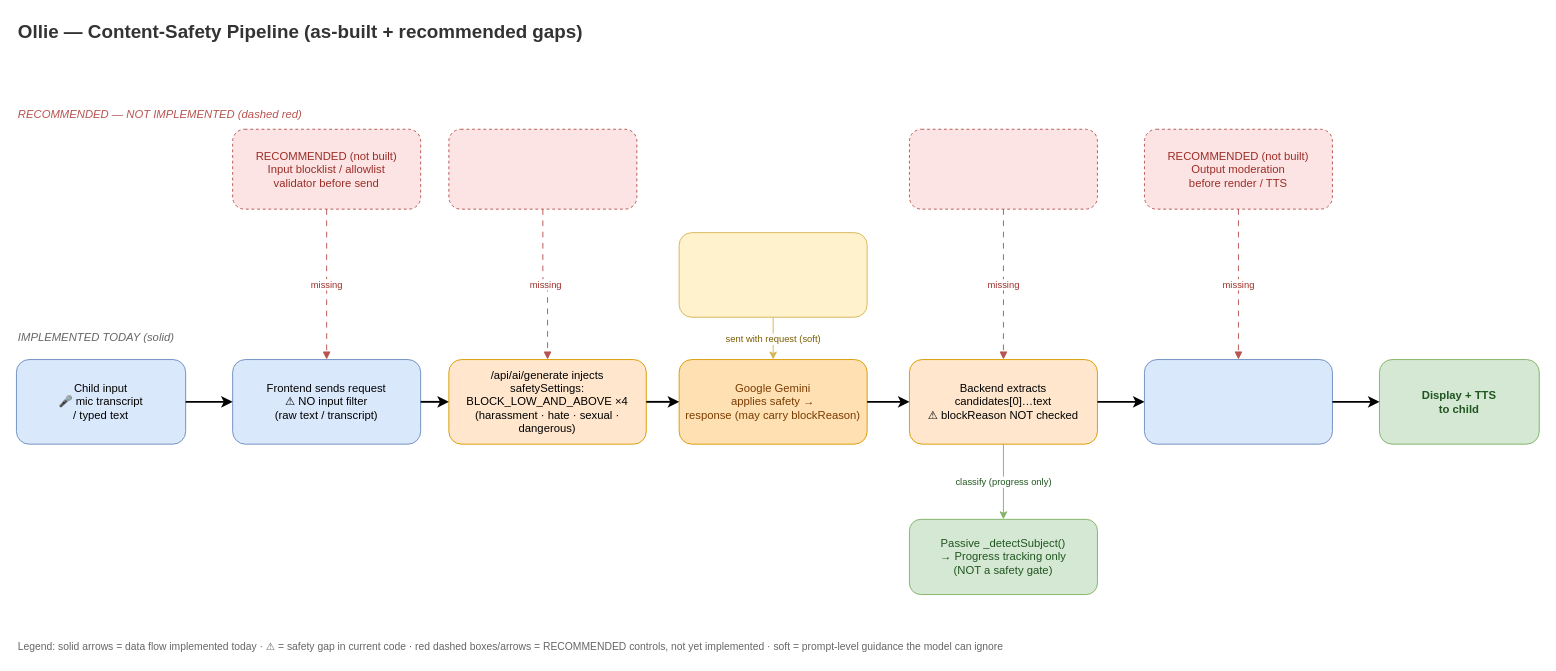
This 1556x671 diagram has some shape labels left out. The box of each missing label's shape, as (x1, y1, x2, y2) in pixels:
Frontend render esc() / fmt() HTML-escape + markdown only ⚠ no output moderation: (1144, 359, 1332, 444)
RECOMMENDED (not built) blockReason handler → safe fallback message: (909, 128, 1097, 209)
RECOMMENDED (not built) Hard STEAM-topic classifier / gate: (448, 128, 637, 209)
System prompt rule: “stay on educational topics” ⚠ SOFT — model may ignore: (678, 232, 867, 317)
